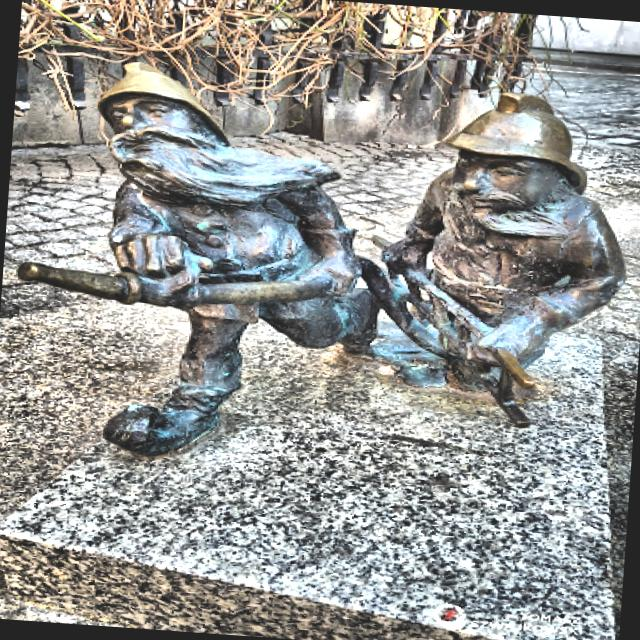Pozarki: (15, 61, 626, 458)
